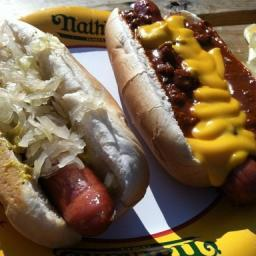hotdog: (45, 169, 121, 239), (224, 150, 256, 206), (134, 2, 168, 22)
